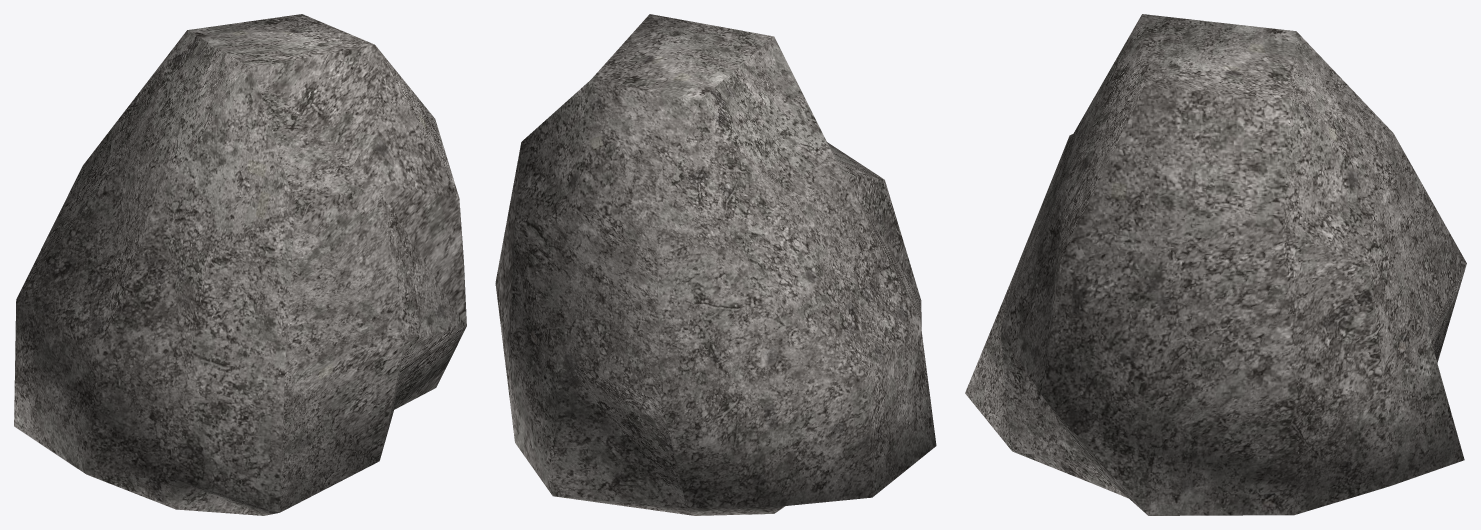
File: pedra3.fbx
3 renders of one model, left to right at view 1: azimuth 30°, elevation 25°; view 2: azimuth 150°, elevation 25°; view 3: azimuth 270°, elevation 25°, orthographic. The views are drawn at different scales.
Parts seen in each view (by area): view 1: Forester_Rock; view 2: Forester_Rock; view 3: Forester_Rock.
Part boxes in pixels (x1,y1,x2,y2): Forester_Rock: (14,14,466,515); Forester_Rock: (495,14,936,515); Forester_Rock: (965,14,1466,515).
Bounding box in the file's own units: 137 × 137 × 143.
Materials: 1 (1 with a texture image).
